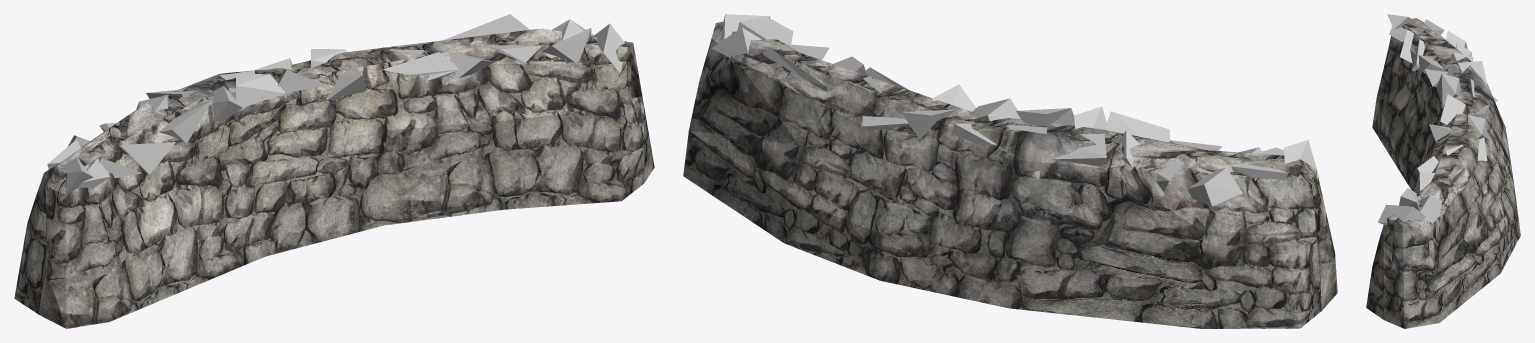
File: Wall_2_LOD3.fbx
The picture shows the model from 3 angles, left to right: view 1: azimuth 30°, elevation 25°; view 2: azimuth 150°, elevation 25°; view 3: azimuth 270°, elevation 25°; orthographic projection. The views are drawn at different scales.
Parts seen in each view (by area): view 1: Wall, Rock; view 2: Wall, Rock; view 3: Wall, Rock.
Boxes of the visible parts, x1=… form: Wall: x1=14, y1=28, x2=654, y2=328; Rock: x1=47, y1=14, x2=624, y2=200; Wall: x1=683, y1=21, x2=1337, y2=328; Rock: x1=711, y1=14, x2=1319, y2=206; Wall: x1=1366, y1=18, x2=1520, y2=328; Rock: x1=1378, y1=14, x2=1497, y2=225.
Size of the model in its own units: 821 by 246 by 203.
